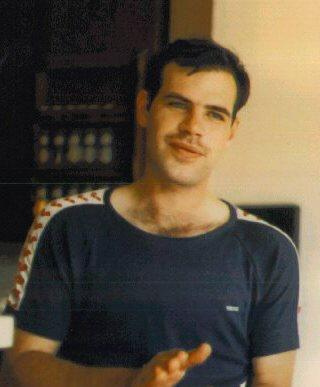without_mask: (132, 48, 256, 196)
